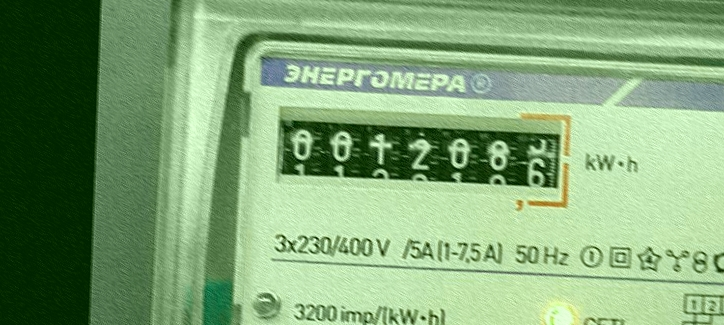0: (444, 135, 471, 170), (328, 126, 352, 164), (290, 125, 311, 163)
1: (368, 130, 387, 167)
2: (405, 136, 433, 172)
6: (522, 153, 546, 189)
8: (483, 137, 508, 174)
screen: (263, 94, 579, 223)
